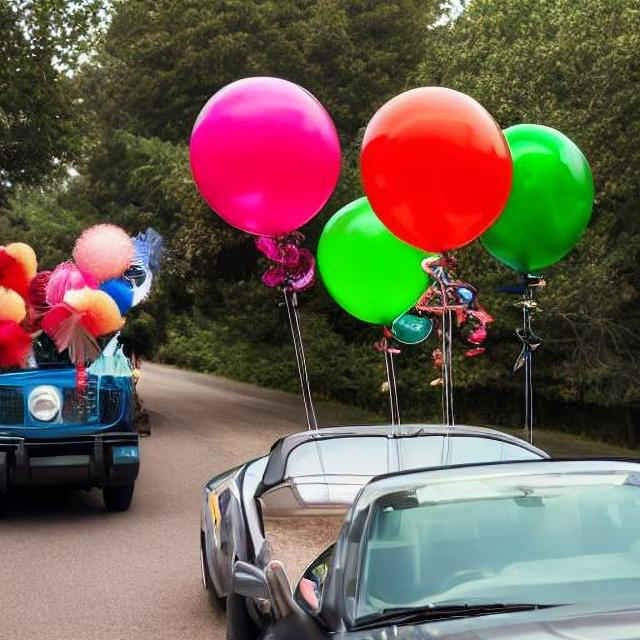balloon: (365, 86, 503, 245), (321, 175, 452, 332), (196, 84, 336, 227), (480, 112, 599, 273), (246, 227, 318, 292)
